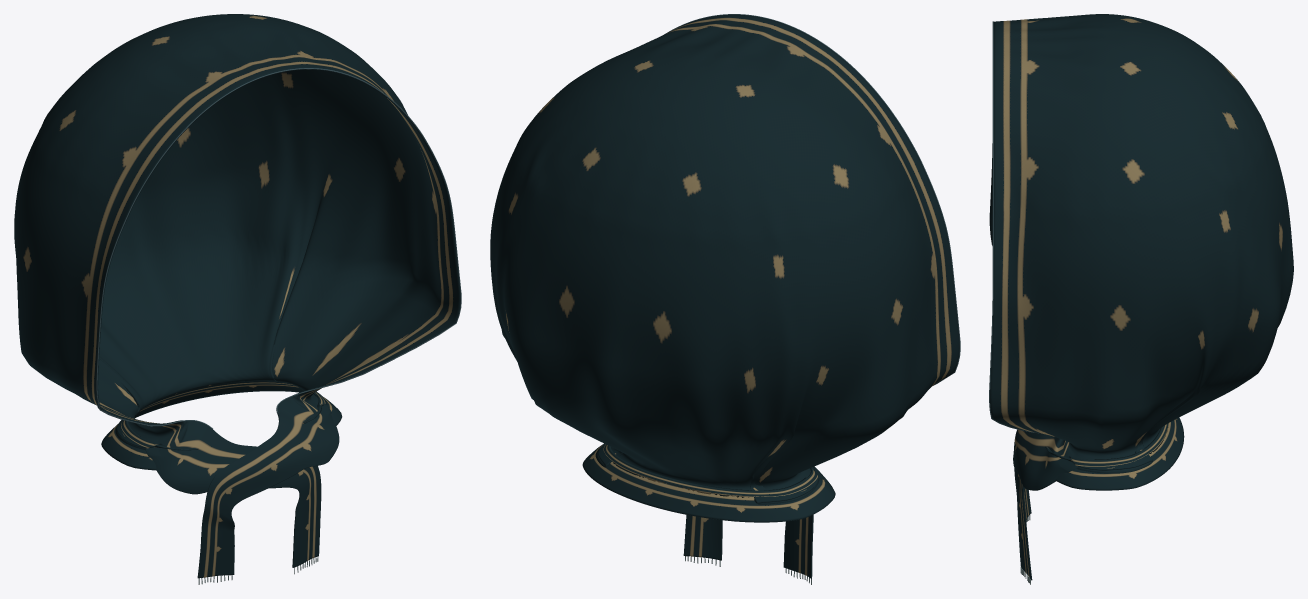
The model's file is Masculine-shirtless-pashmina241-headgear.glb.
3 renders of one model, left to right at view 1: azimuth 30°, elevation 25°; view 2: azimuth 150°, elevation 25°; view 3: azimuth 270°, elevation 25°, orthographic. The views are drawn at different scales.
Visible parts, largest first — view 1: 226 headgear / Headwear / continuous woven pashmina239, 226 headgear / Headwear / face edge239; view 2: 226 headgear / Headwear / continuous woven pashmina239, 226 headgear / Headwear / face edge239; view 3: 226 headgear / Headwear / continuous woven pashmina239, 226 headgear / Headwear / face edge239.
Boxes of the visible parts, bbox=[...] form: 226 headgear / Headwear / continuous woven pashmina239: bbox=[14, 14, 460, 578]; 226 headgear / Headwear / face edge239: bbox=[96, 68, 461, 429]; 226 headgear / Headwear / continuous woven pashmina239: bbox=[490, 14, 959, 578]; 226 headgear / Headwear / face edge239: bbox=[664, 14, 960, 385]; 226 headgear / Headwear / continuous woven pashmina239: bbox=[989, 14, 1293, 580]; 226 headgear / Headwear / face edge239: bbox=[989, 21, 1038, 433].
Size of the model in its own units: 1.03 by 1.35 by 0.7127.
3 materials, 1 textured.
